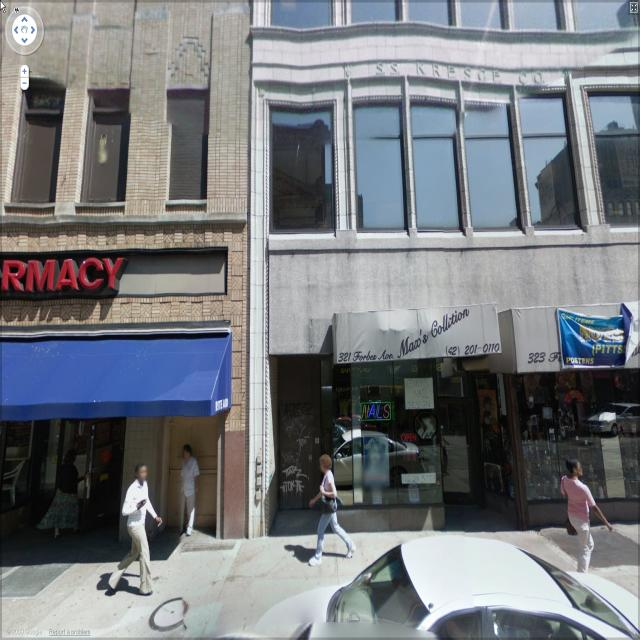b_1: (250, 2, 640, 520), (1, 7, 256, 532)
